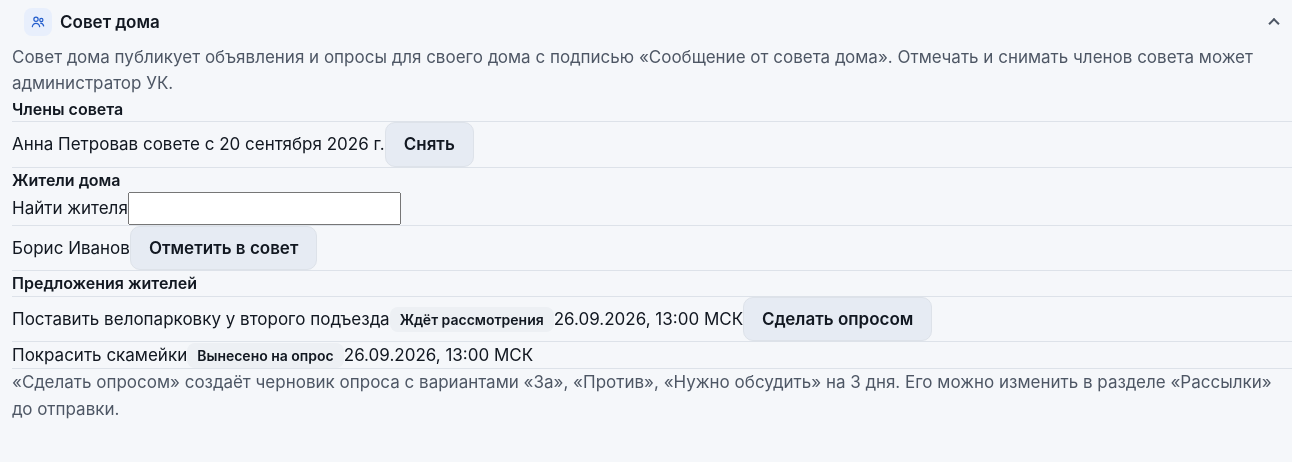
it: Совет дома в кабинете УК (D4) › «Сделать опросом» создаёт черновик с ключом идемпотентности и ведёт в «Рассылки»
This screenshot has width=1292, height=462.
Expected: the text "Вынесено на опрос" is shown, [187,343,344,368]
What coordinates should you click on to do the following:
click the button "Сделать опросом"
I would click on:
 (838, 319)
Its box is [743,297,932,341].
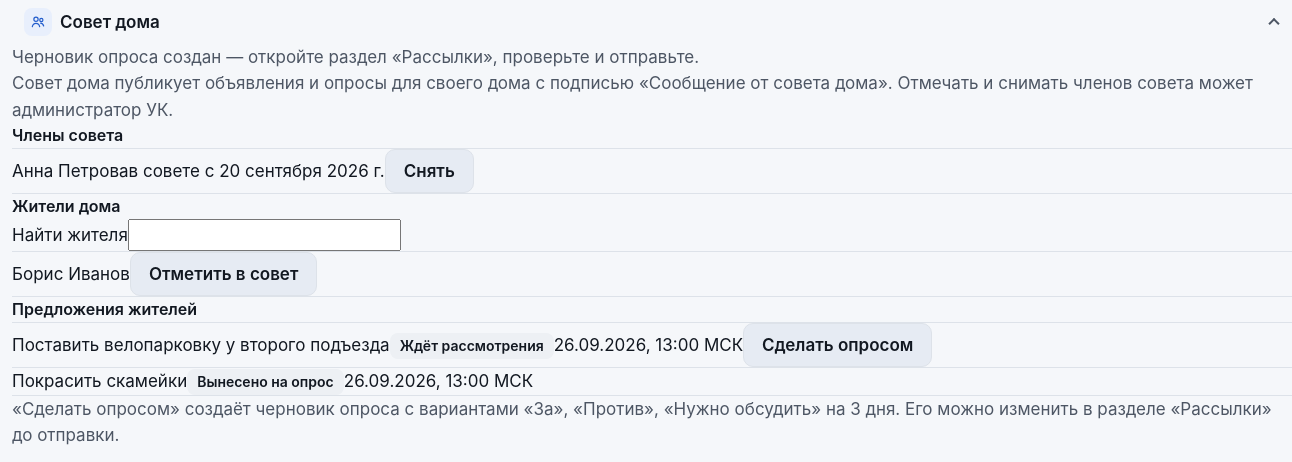
Expected: the text "Черновик опроса создан — откройте раздел «Рассылки», проверьте и отправьте." is shown, [12,47,699,67]
